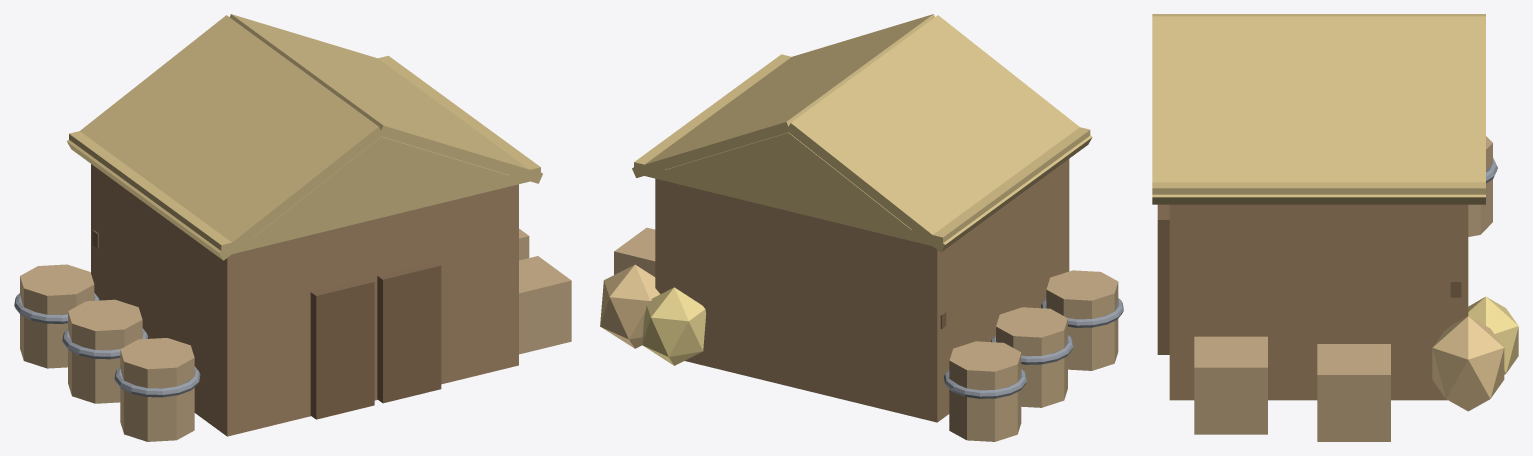
File: warehouse.glb
The picture shows the model from 3 angles, left to right: view 1: azimuth 30°, elevation 25°; view 2: azimuth 150°, elevation 25°; view 3: azimuth 270°, elevation 25°; orthographic projection. The views are drawn at different scales.
Parts seen in each view (by area): view 1: WarehouseBody; view 2: WarehouseBody; view 3: WarehouseBody.
Part boxes in pixels (<box>): WarehouseBody: <box>14,14,571,441</box>; WarehouseBody: <box>600,14,1123,441</box>; WarehouseBody: <box>1152,14,1518,441</box>.
Size of the model in its own units: 3.23 by 1.93 by 2.09.
